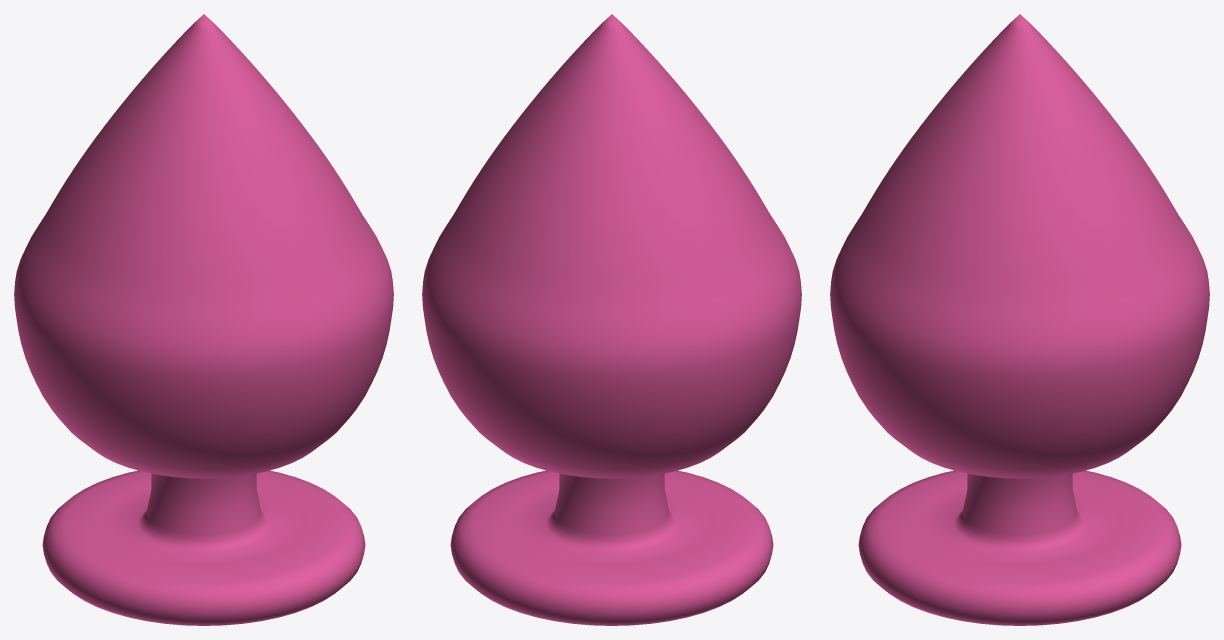
File: pawn.glb
The picture shows the model from 3 angles, left to right: view 1: azimuth 30°, elevation 25°; view 2: azimuth 150°, elevation 25°; view 3: azimuth 270°, elevation 25°; orthographic projection.
Visible parts, largest first — view 1: pawn; view 2: pawn; view 3: pawn.
Part boxes in pixels (x1,y1,x2,y2): pawn: [14, 14, 393, 625]; pawn: [422, 14, 801, 625]; pawn: [830, 14, 1209, 625].
Bounding box in the file's own units: 0.3436 × 0.55 × 0.3436.
